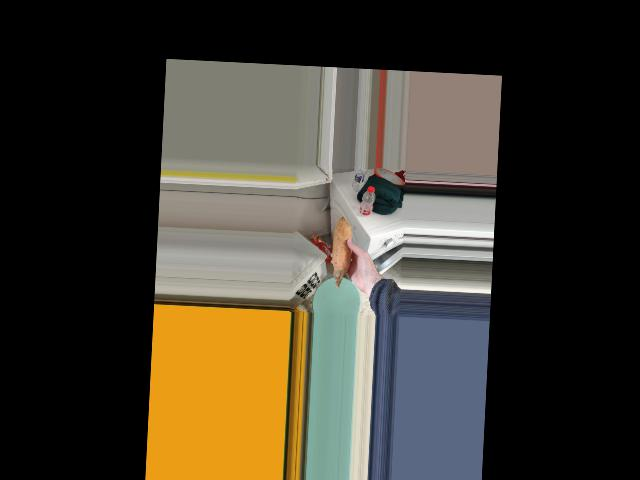sweet_potato: (332, 218, 351, 279)
